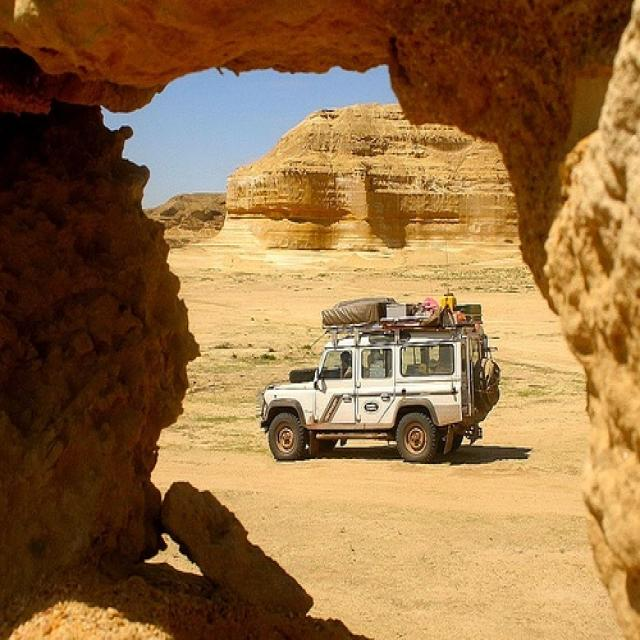car: (260, 296, 500, 462)
